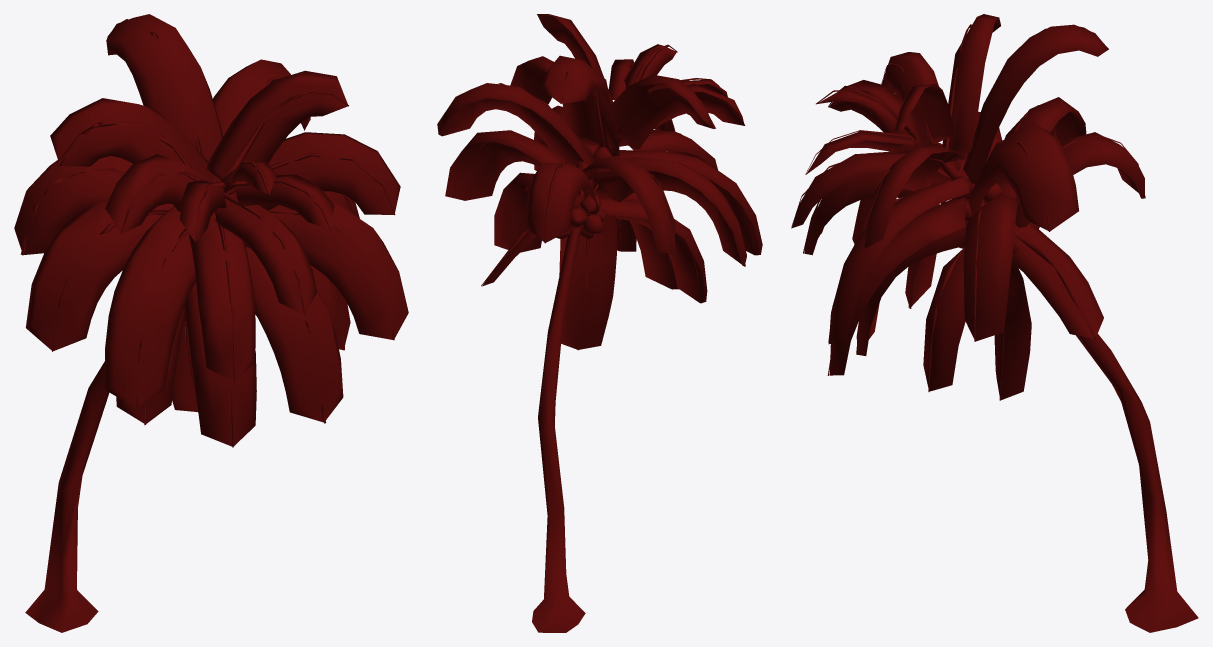
The model's file is Palm_Tree_Low.gltf.
3 renders of one model, left to right at view 1: azimuth 30°, elevation 25°; view 2: azimuth 150°, elevation 25°; view 3: azimuth 270°, elevation 25°, orthographic. The views are drawn at different scales.
Parts seen in each view (by area): view 1: Coconut_02; view 2: Coconut_02; view 3: Coconut_02.
Part boxes in pixels (box(x1,y1,x2,y2)): Coconut_02: box(14, 14, 408, 632); Coconut_02: box(437, 14, 762, 632); Coconut_02: box(791, 14, 1198, 632).
Bounding box in the file's own units: 2.29 × 3.99 × 2.44.
